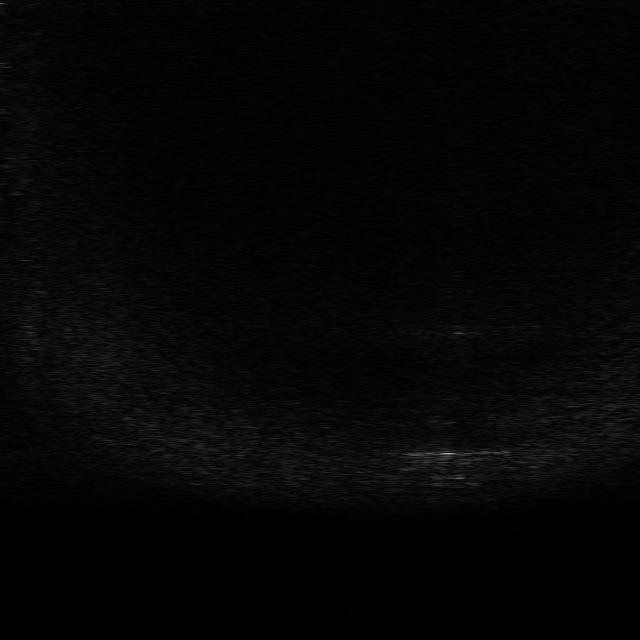plane: (399, 446, 511, 481)
